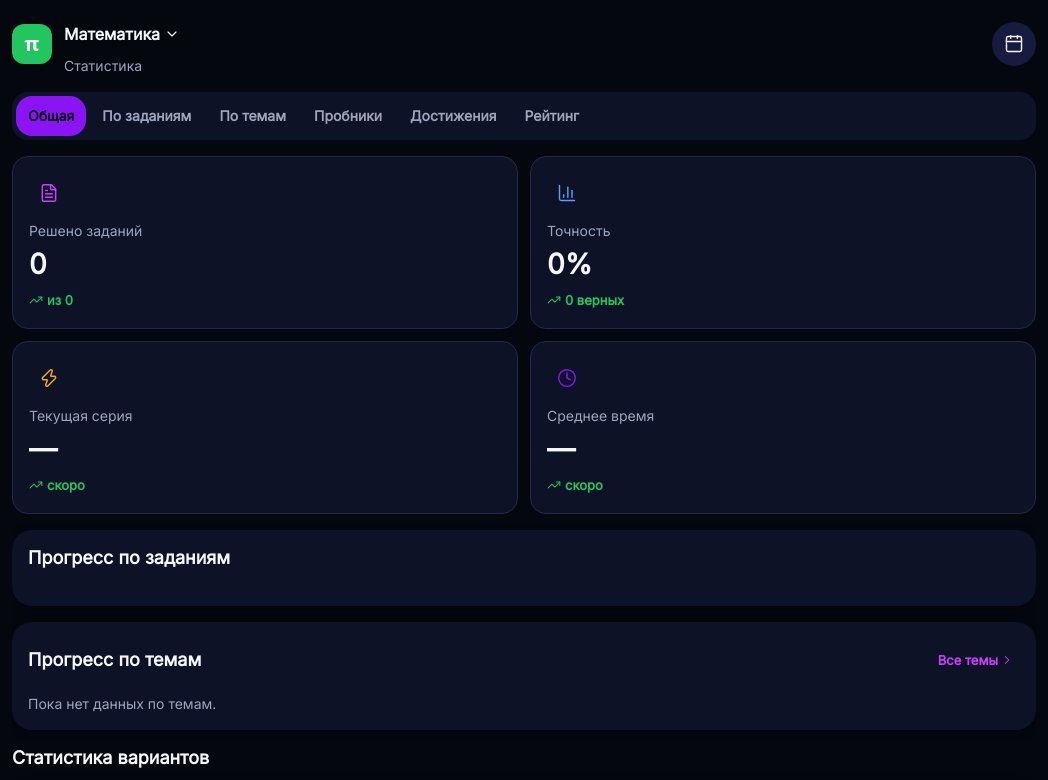
Test case: StatisticsMobile › По темам tab shows a neutral empty state, not fake hash rows, when there is no topic data
Click the tab "По темам" at (253, 116), box 207,96 -> 298,136
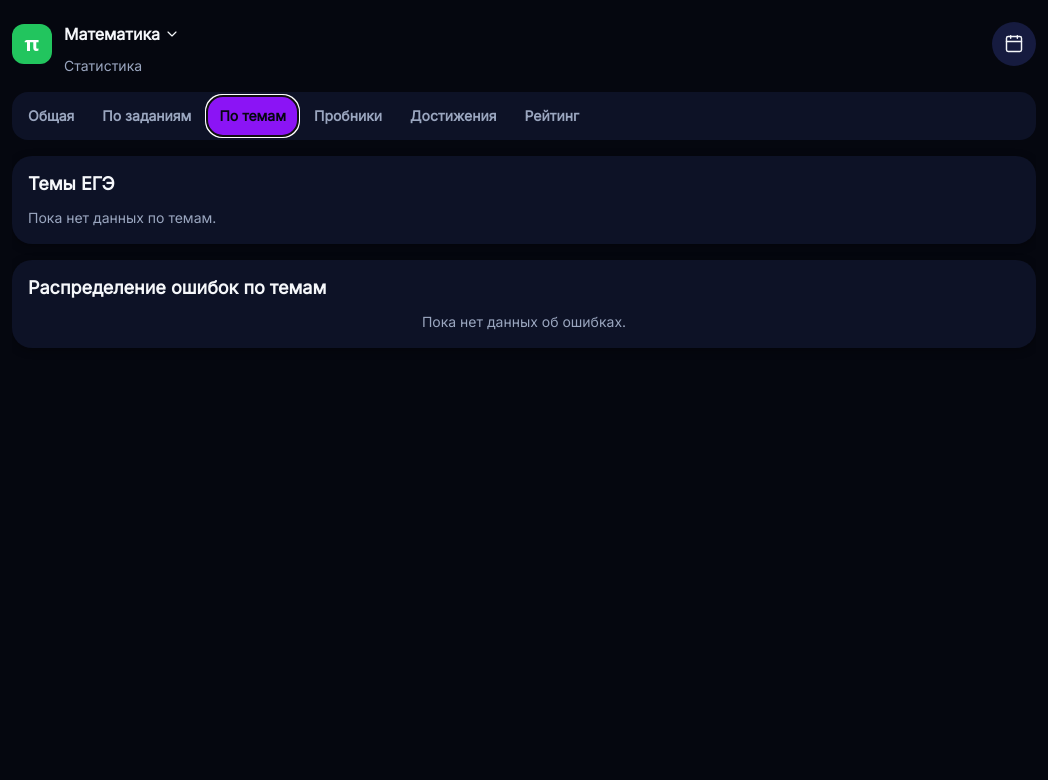
Expected: the text "Пока нет данных по темам." is shown, 28,209 -> 216,226
Expected: the text "Пока нет данных об ошибках." is shown, 422,312 -> 626,332
